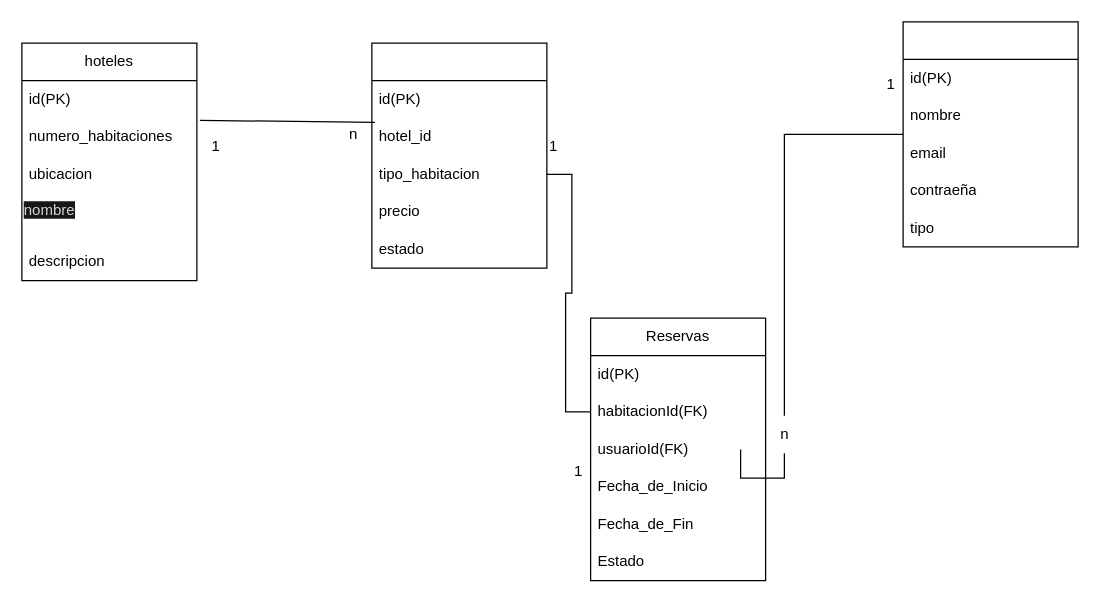
This 1100x603 diagram has some shape labels left out. The box of each missing label's shape, as (x1, y1, x2, y2) in pixels:
habitaciones: (371, 42, 547, 268)
usuarios: (902, 21, 1078, 247)
